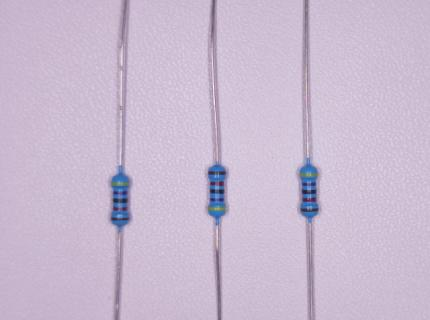Black band: (113, 198, 128, 204), (210, 189, 224, 194), (302, 190, 316, 194)
Brown band: (111, 217, 129, 221), (208, 171, 226, 175), (301, 208, 318, 212)
Red band: (302, 197, 317, 202), (210, 181, 224, 186), (113, 207, 128, 211)
Violet band: (113, 191, 128, 195), (210, 198, 224, 201), (302, 183, 316, 186)
Yellow band: (111, 182, 130, 185), (208, 207, 226, 210), (300, 173, 318, 176)
